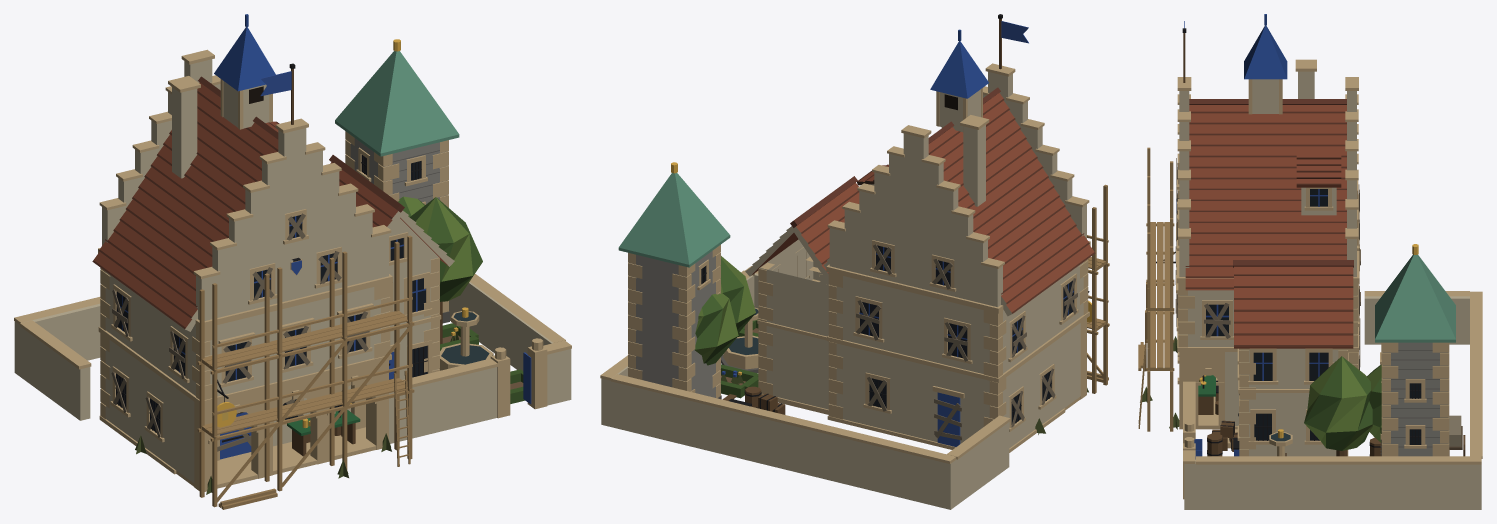
The model's file is geldleiher.glb.
The picture shows the model from 3 angles, left to right: view 1: azimuth 30°, elevation 25°; view 2: azimuth 150°, elevation 25°; view 3: azimuth 270°, elevation 25°; orthographic projection. The views are drawn at different scales.
Parts seen in each view (by area): view 1: Haus, Stufe1, Geruest, Stufe3, Stufe2, Leerstand, Fahne; view 2: Haus, Stufe1, Stufe3, Stufe2, Leerstand, Geruest, Fahne; view 3: Haus, Stufe2, Stufe1, Stufe3, Geruest, Leerstand.
Boxes of the visible parts, x1,y1,x2,y2 form: Haus: (92,49,394,491); Stufe1: (14,196,571,443); Geruest: (197,235,414,509); Stufe3: (214,14,524,403); Stufe2: (265,121,482,379); Leerstand: (111,213,391,494); Fahne: (260,63,295,124); Haus: (823,63,1095,452); Stufe1: (600,266,1010,509); Stufe3: (618,29,988,399); Stufe2: (720,164,888,414); Leerstand: (856,244,1088,440); Geruest: (1087,184,1109,393); Fahne: (998,14,1028,69); Haus: (1156,59,1359,429); Stufe2: (1227,155,1465,456); Stufe1: (1183,291,1482,509); Stufe3: (1244,14,1455,456); Geruest: (1138,147,1174,431); Leerstand: (1140,158,1360,429).
Size of the model in its own units: 15.9 by 16.27 by 13.57.
